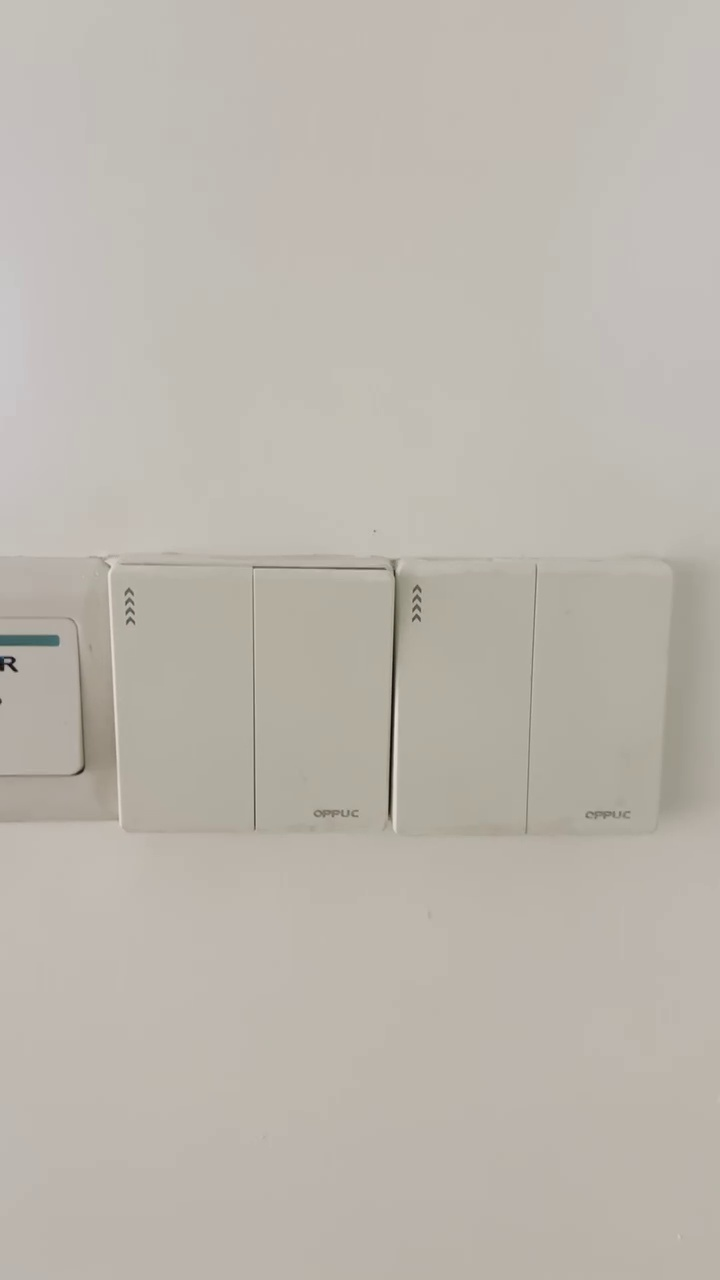button1: (119, 572, 250, 827), (398, 569, 526, 825), (258, 575, 385, 823), (536, 571, 656, 829)
